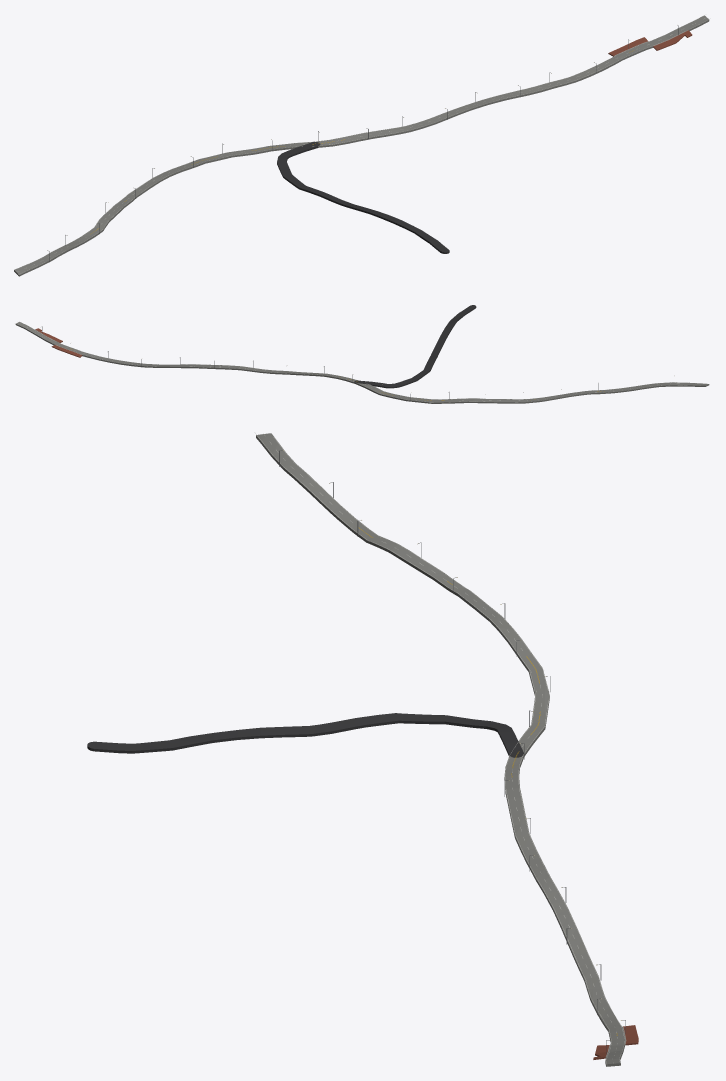
3 renders of one model, top to bottom at view 1: azimuth 30°, elevation 25°; view 2: azimuth 150°, elevation 25°; view 3: azimuth 270°, elevation 25°, orthographic. The views are drawn at different scales.
Size of the model in its own units: 592 by 42.51 by 233.
